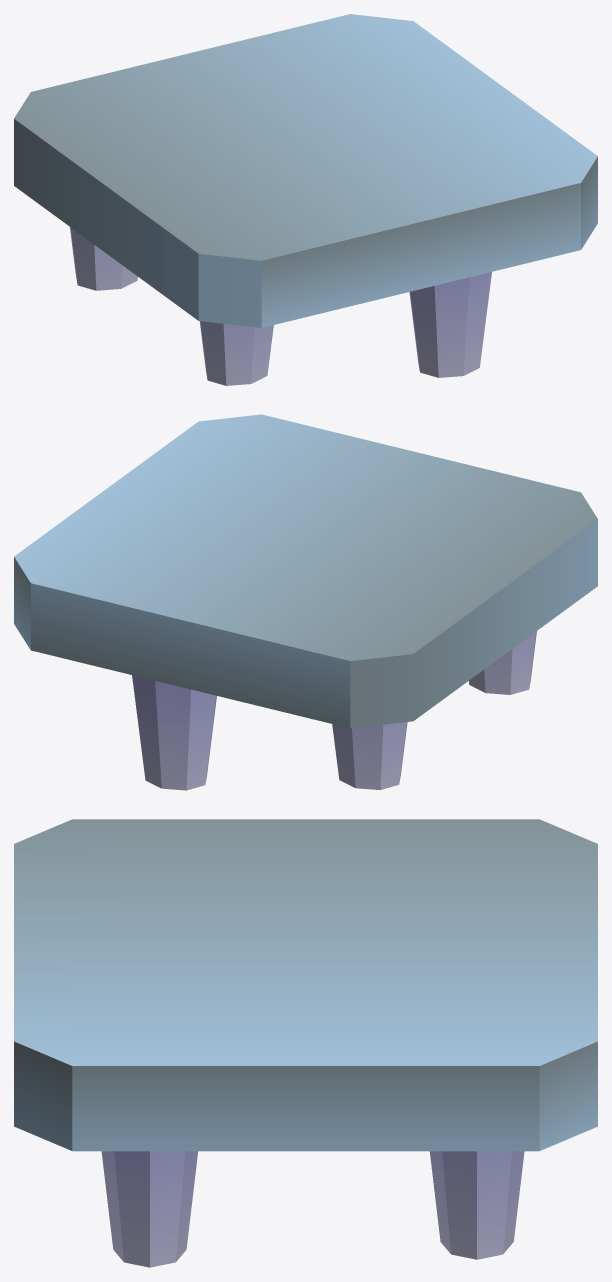
Rendered from table.fbx.
The picture shows the model from 3 angles, top to bottom: view 1: azimuth 30°, elevation 25°; view 2: azimuth 150°, elevation 25°; view 3: azimuth 270°, elevation 25°; orthographic projection. The views are drawn at different scales.
Parts seen in each view (by area): view 1: pCube49, pCylinder22, pCylinder23, pCylinder24; view 2: pCube49, pCylinder25, pCylinder24, pCylinder23; view 3: pCube49, pCylinder22, pCylinder25.
Boxes of the visible parts, x1=… form: pCube49: x1=14, y1=14, x2=597, y2=327; pCylinder22: x1=409, y1=272, x2=491, y2=377; pCylinder23: x1=199, y1=321, x2=273, y2=385; pCylinder24: x1=70, y1=227, x2=137, y2=290; pCube49: x1=14, y1=414, x2=597, y2=728; pCylinder25: x1=132, y1=675, x2=216, y2=790; pCylinder24: x1=332, y1=722, x2=407, y2=790; pCylinder23: x1=469, y1=631, x2=536, y2=694; pCube49: x1=14, y1=819, x2=597, y2=1151; pCylinder22: x1=101, y1=1151, x2=198, y2=1267; pCylinder25: x1=429, y1=1151, x2=524, y2=1259.
Size of the model in its own units: 21.11 by 10.4 by 21.11.
Materials: 1 (1 with a texture image).
